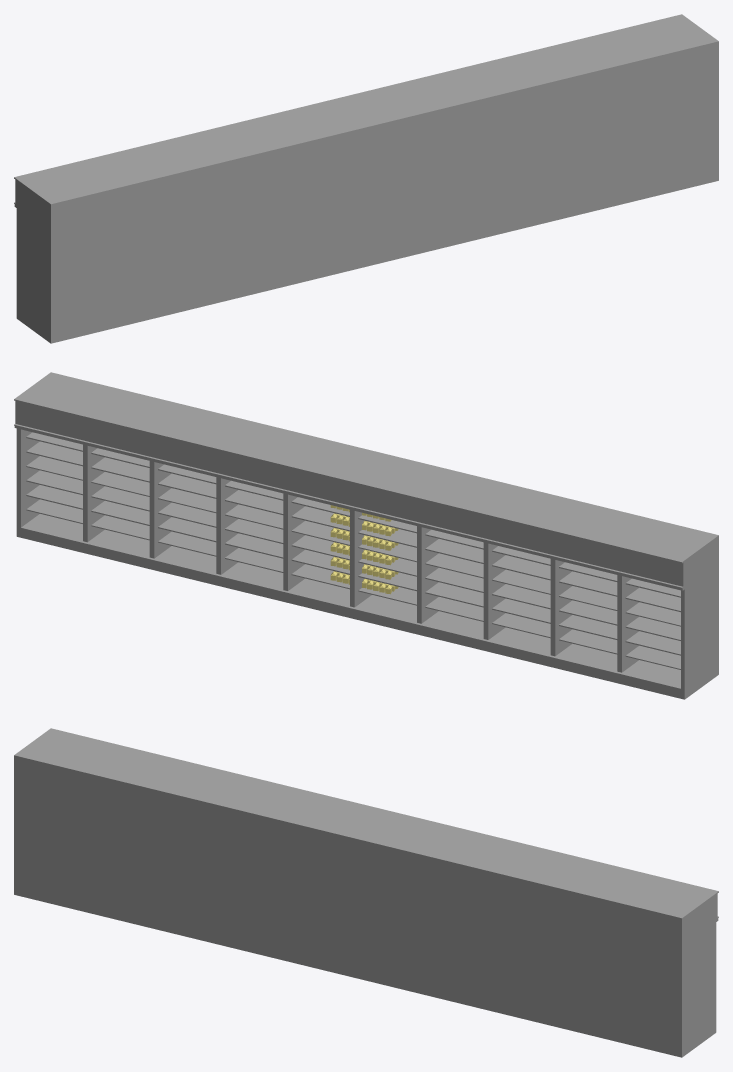
The model's file is Milk Shelf v1.fbx.
3 renders of one model, top to bottom at view 1: azimuth 30°, elevation 25°; view 2: azimuth 150°, elevation 25°; view 3: azimuth 330°, elevation 25°, orthographic.
Parts seen in each view (by area): view 1: Shelves; view 2: Shelves; view 3: Shelves.
Part boxes in pixels (x1=…): Shelves: x1=14, y1=14, x2=718, y2=343; Shelves: x1=14, y1=372, x2=718, y2=699; Shelves: x1=14, y1=728, x2=718, y2=1057.
Bounding box in the file's own units: 987 × 197 × 94.66.
